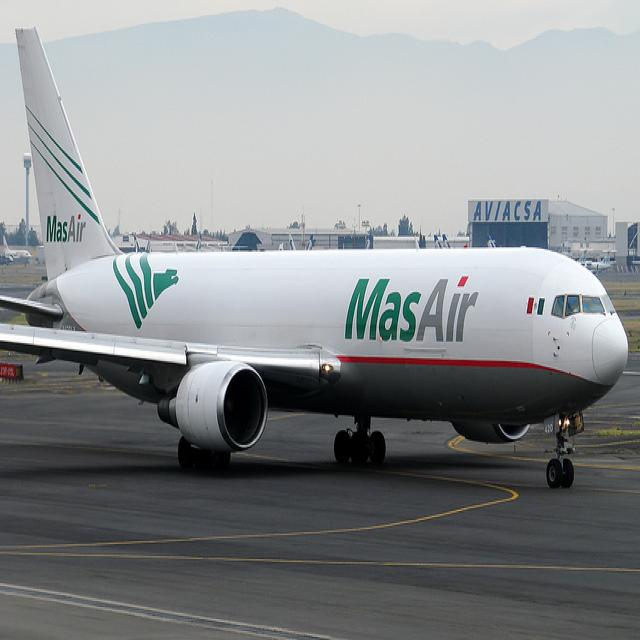airplane: (1, 23, 628, 492)
